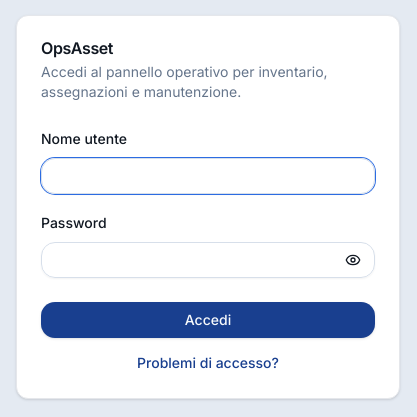
Test: LoginPage › toggles password visibility
Step 1. Click the button named "Mostra password" → click(353, 260), box 335,242 -> 371,278
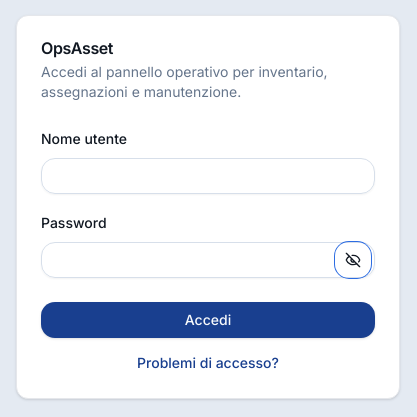
Check: the button named "Nascondi password" is shown, box 335,242 -> 371,278
